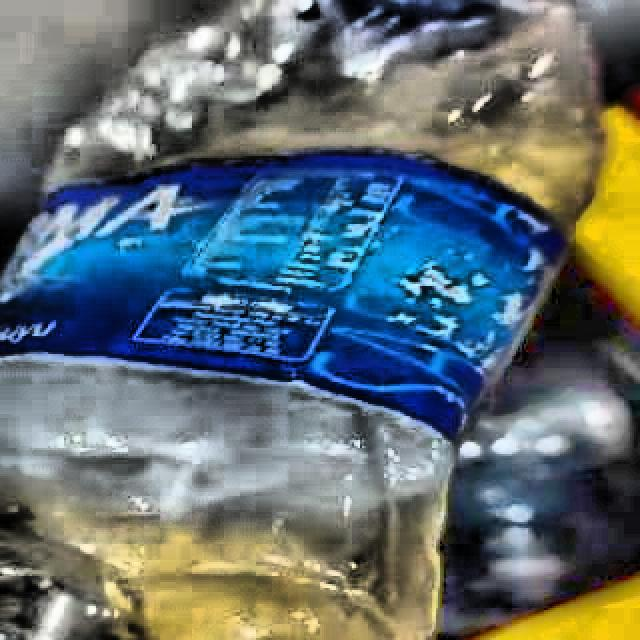plastic: (0, 0, 605, 640)
